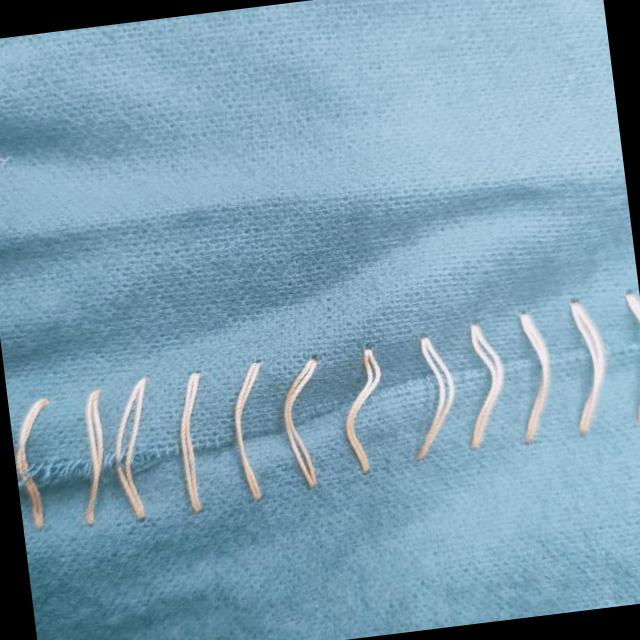seam: (2, 280, 640, 539)
